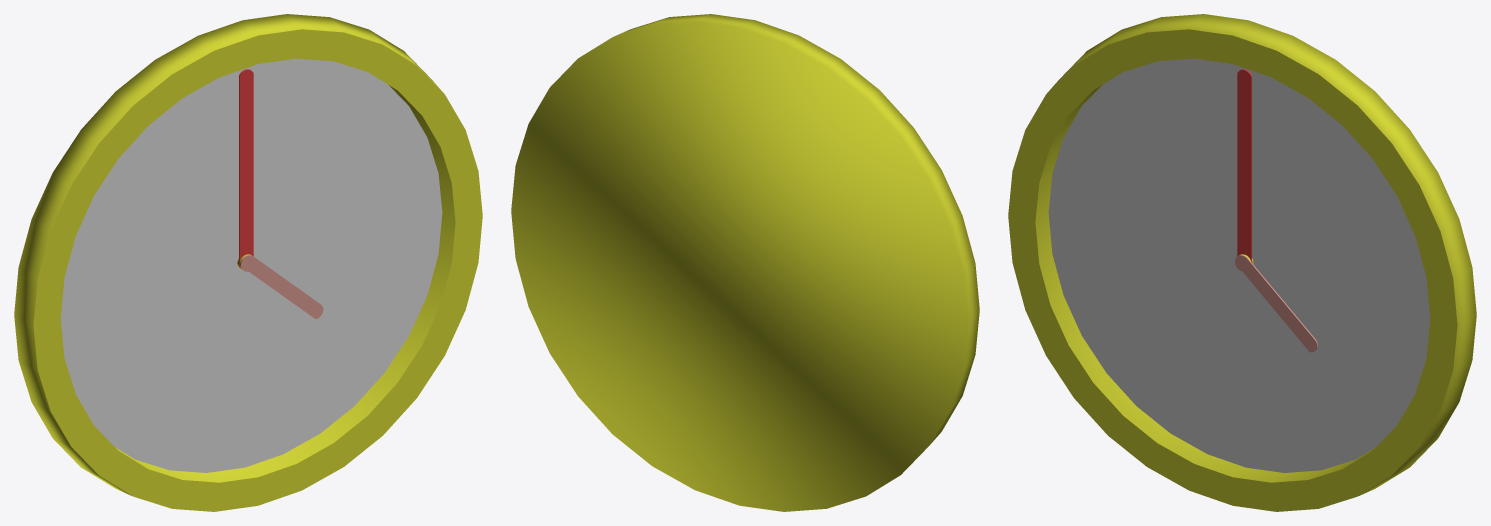
Rendered from Zegar.fbx.
The picture shows the model from 3 angles, left to right: view 1: azimuth 30°, elevation 25°; view 2: azimuth 150°, elevation 25°; view 3: azimuth 330°, elevation 25°; orthographic projection.
Visible parts, largest first — view 1: Zegar; view 2: Zegar; view 3: Zegar.
Part boxes in pixels (left/top/right/bottom): Zegar: left=14, top=14, right=482, bottom=511; Zegar: left=511, top=14, right=979, bottom=511; Zegar: left=1008, top=14, right=1476, bottom=511.
Size of the model in its own units: 100 by 5.93 by 100.
